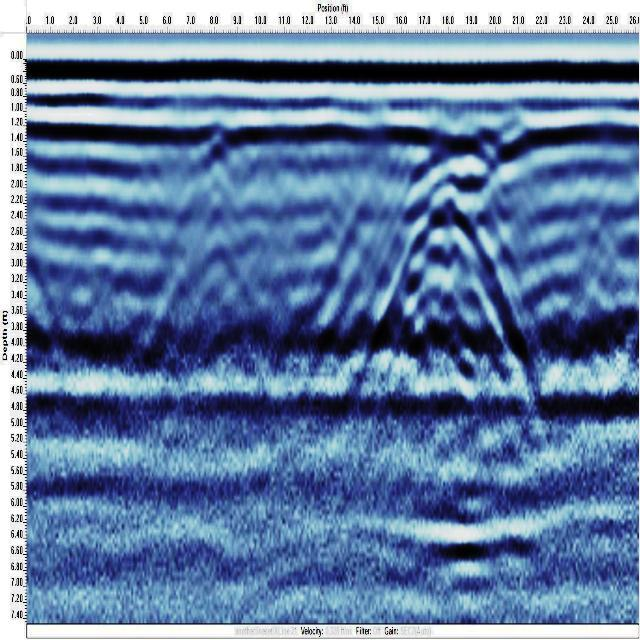hyperbola: (154, 121, 268, 358), (394, 164, 516, 355)
